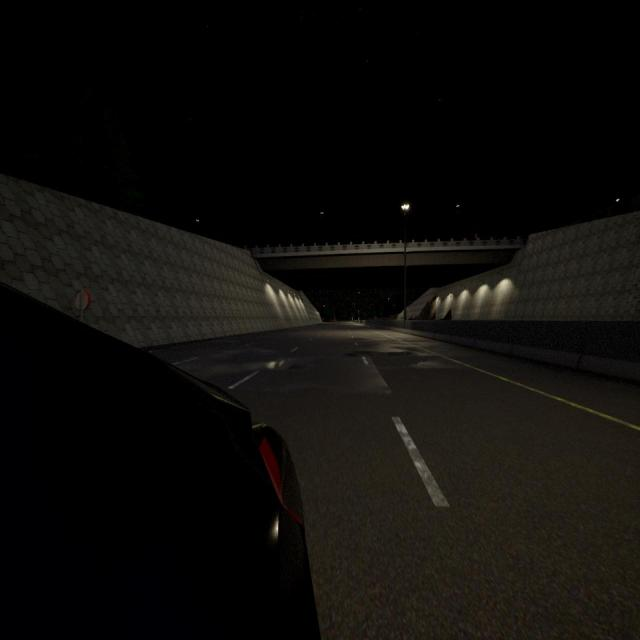Traffic_Signs: (74, 288, 90, 312)
Vehicle: (0, 284, 323, 640)
